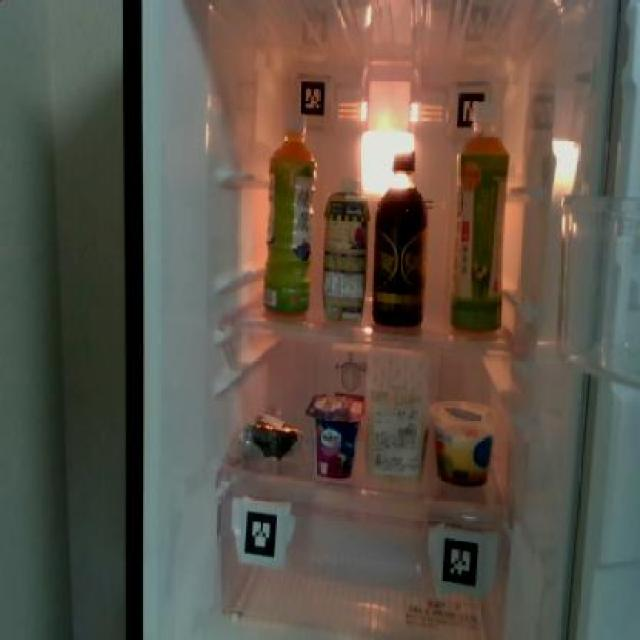coffee: (371, 147, 429, 328)
pudding: (430, 394, 496, 489)
rice_ball: (242, 405, 302, 466)
sandwich: (367, 346, 427, 482)
smoothie: (319, 178, 370, 322)
tea_a: (260, 111, 314, 318)
tea_i: (448, 132, 510, 336)
yogurt: (304, 389, 364, 480)
